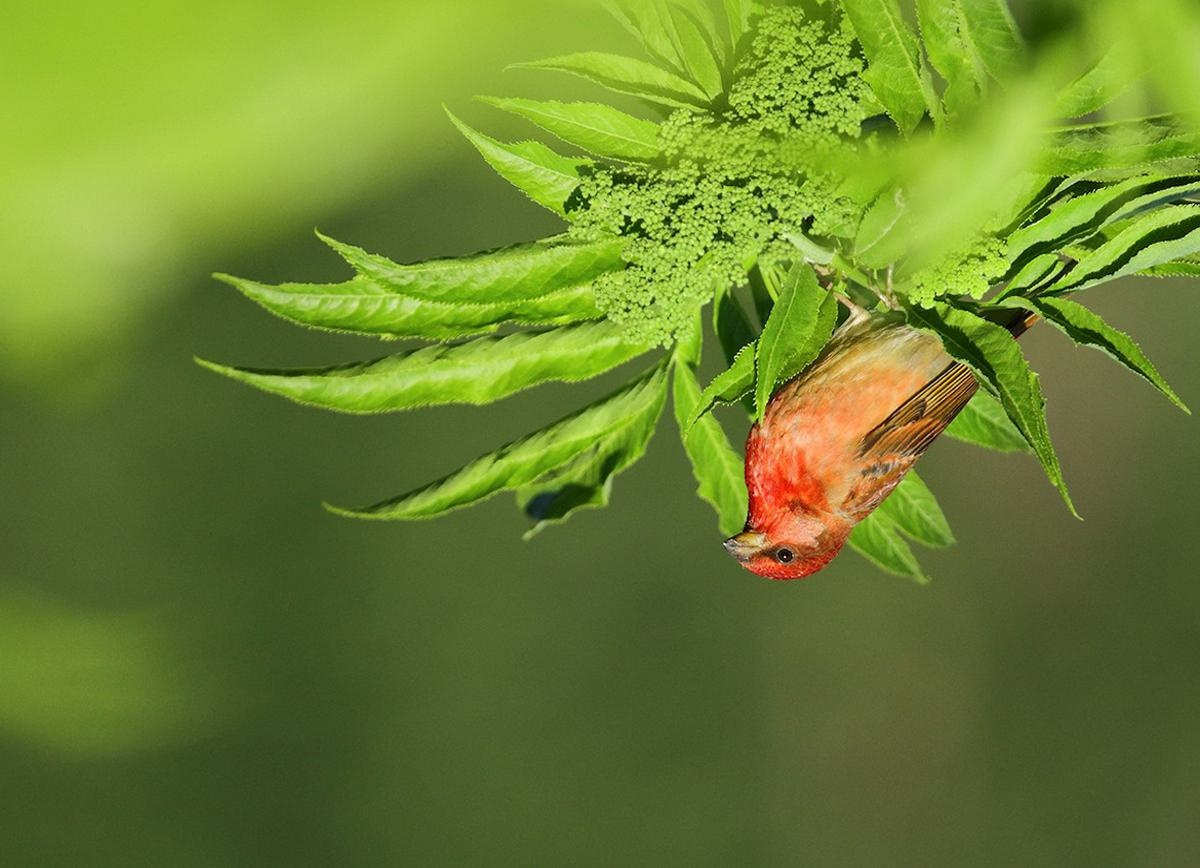rosefinch: (727, 267, 1085, 605)
